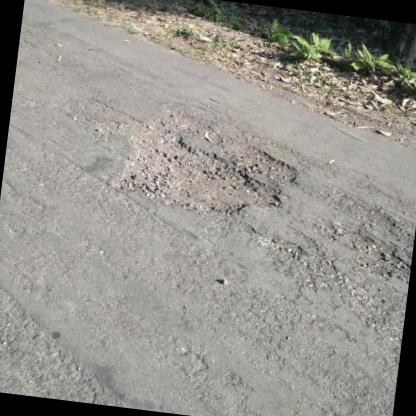pothole: (81, 100, 306, 226)
